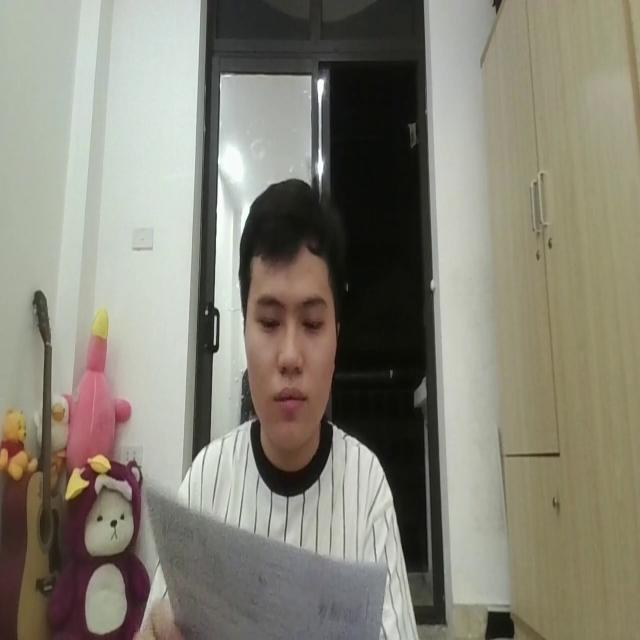book: (142, 462, 392, 640)
student: (126, 173, 420, 640)
